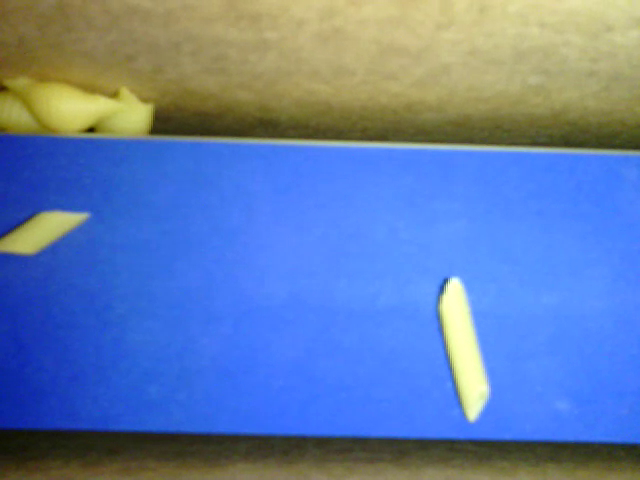penne: (430, 272, 492, 425), (1, 208, 95, 258)
shell: (1, 75, 127, 136), (94, 85, 154, 134), (1, 88, 54, 132)
